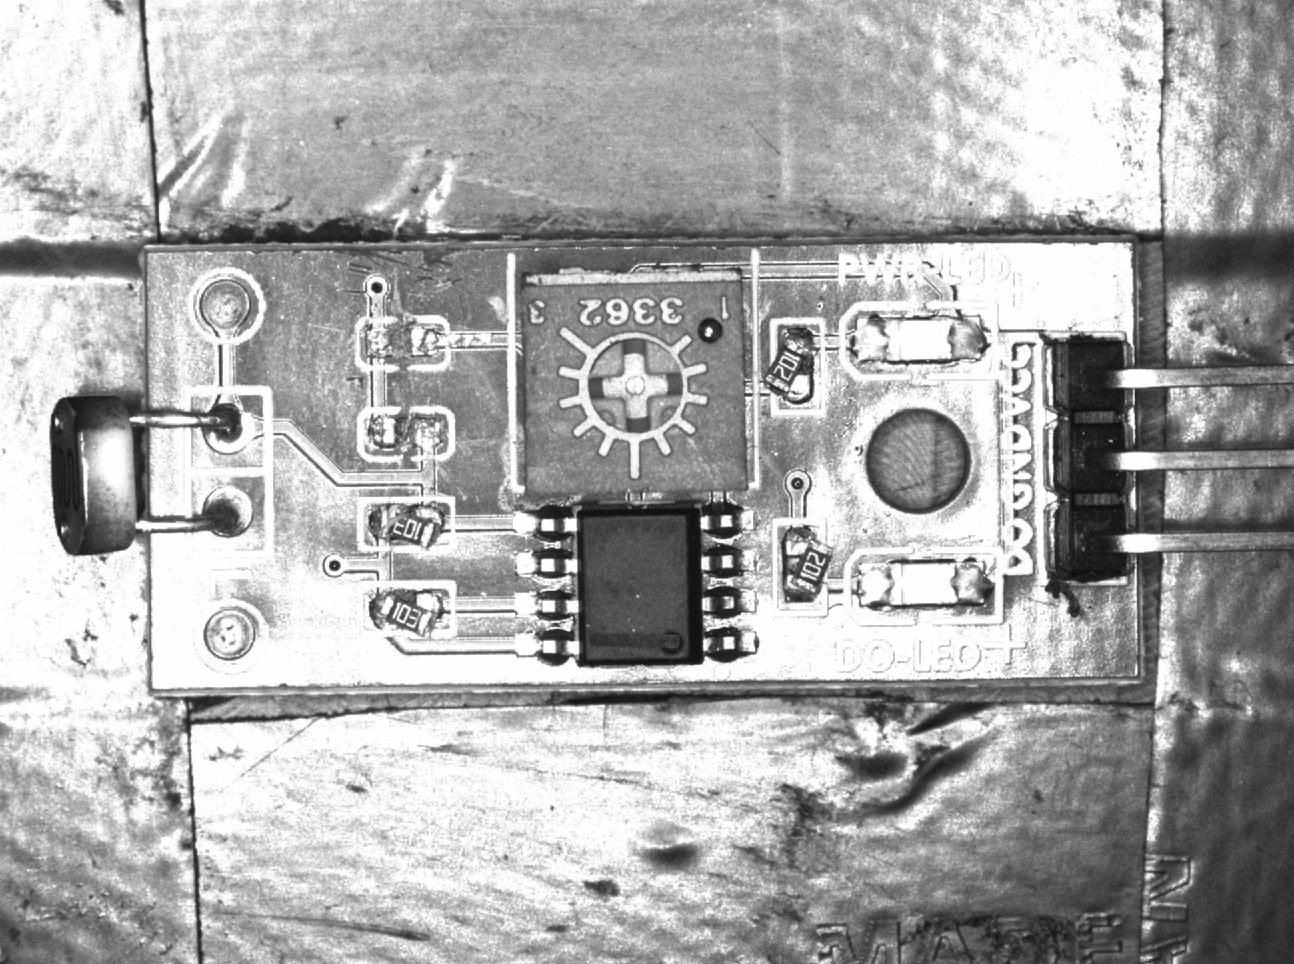lifted: (762, 319, 823, 418), (772, 514, 832, 614), (355, 580, 457, 638), (354, 496, 456, 552)
miss: (355, 317, 452, 370), (356, 410, 453, 461)
